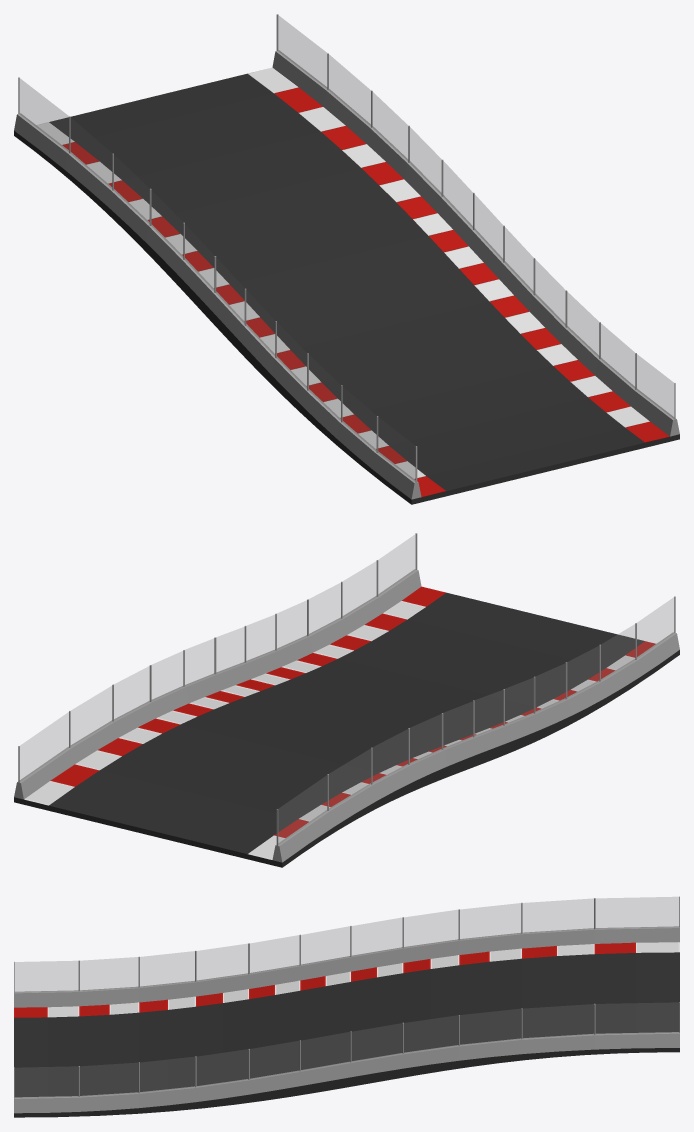
File: track_straight_up_borders_low.glb
3 views of the same model, one above another, from view 1: azimuth 30°, elevation 25°; view 2: azimuth 150°, elevation 25°; view 3: azimuth 270°, elevation 25° (orthographic). The views are drawn at different scales.
Parts seen in each view (by area): view 1: StraightUp.002; view 2: StraightUp.002; view 3: StraightUp.002.
Part boxes in pixels (x1,y1,x2,y2): StraightUp.002: (14, 14, 679, 504); StraightUp.002: (14, 533, 679, 867); StraightUp.002: (14, 896, 679, 1117).
Size of the model in its own units: 10.8 by 5.2 by 27.71.
